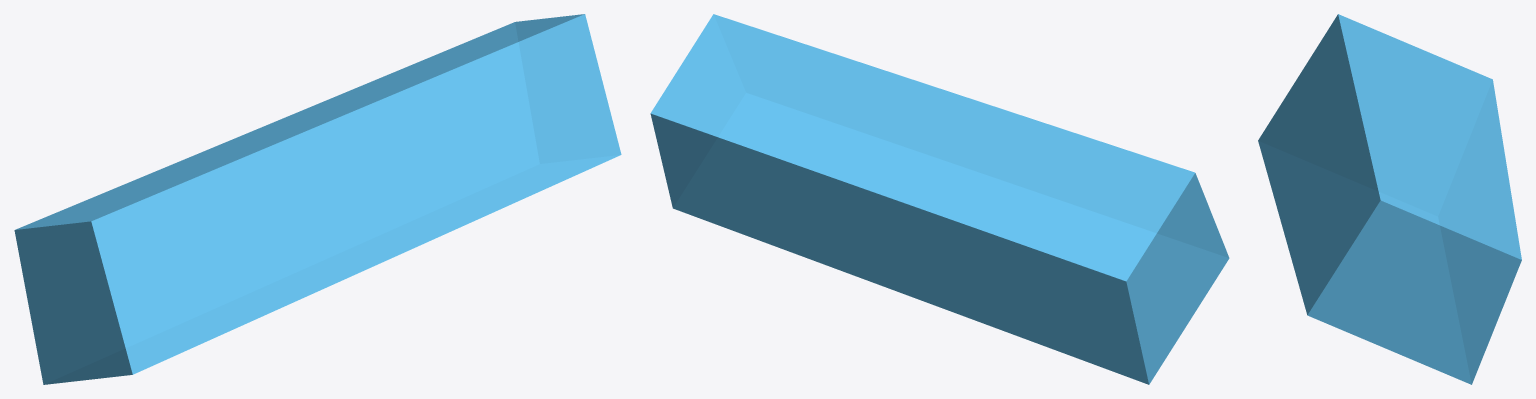
The model's file is Event_421115418_HErechit_99.fbx.
3 renders of one model, left to right at view 1: azimuth 30°, elevation 25°; view 2: azimuth 150°, elevation 25°; view 3: azimuth 270°, elevation 25°, orthographic. The views are drawn at different scales.
Visible parts, largest first — view 1: Model; view 2: Model; view 3: Model.
Part boxes in pixels (x1,y1,x2,y2): Model: (14,14,621,384); Model: (650,14,1229,384); Model: (1258,14,1521,384).
Bounding box in the file's own units: 1.05 × 0.5212 × 0.4642.
